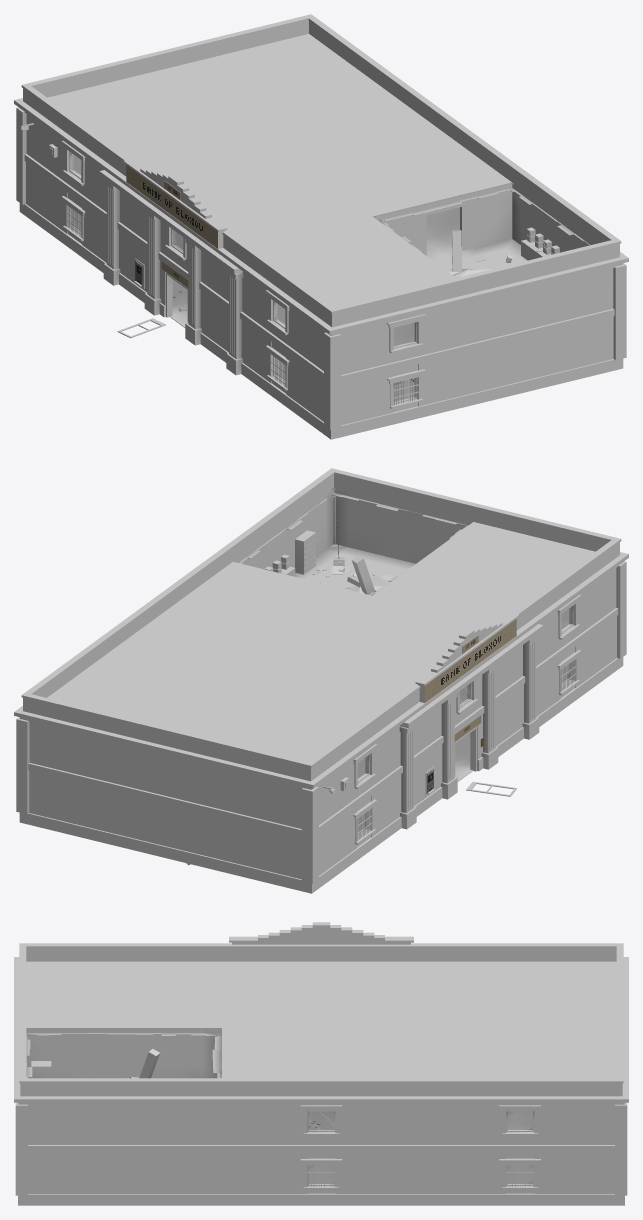
The model's file is bank.glb.
3 renders of one model, top to bottom at view 1: azimuth 30°, elevation 25°; view 2: azimuth 150°, elevation 25°; view 3: azimuth 270°, elevation 25°, orthographic. The views are drawn at different scales.
Visible parts, largest first — view 1: bank; view 2: bank; view 3: bank.
Boxes of the visible parts, x1=… form: bank: x1=14, y1=14, x2=628, y2=439; bank: x1=14, y1=468, x2=628, y2=893; bank: x1=14, y1=922, x2=628, y2=1205.
Size of the model in its own units: 19.59 by 8.23 by 30.94.
4 materials, 3 textured.
